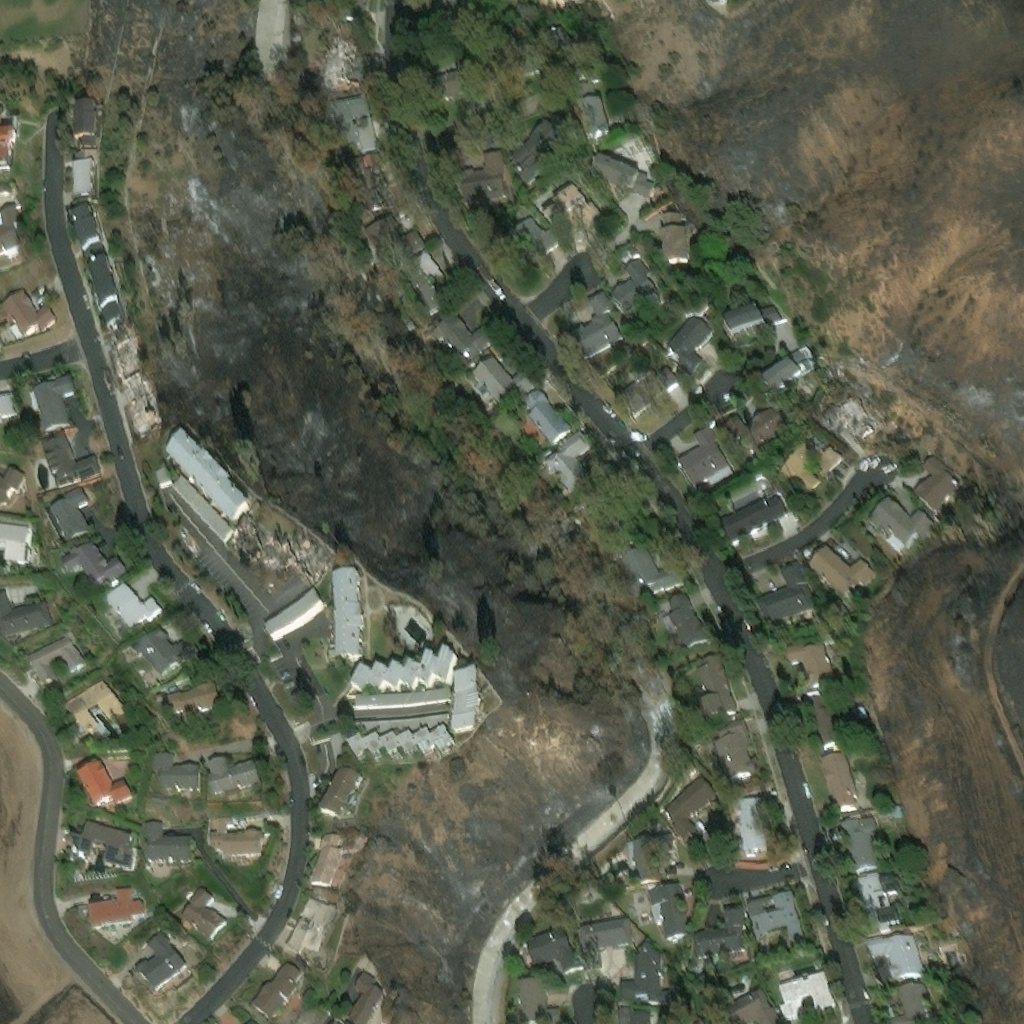0 no-damage: (165, 428, 249, 518), (346, 645, 458, 684), (746, 887, 807, 958), (714, 486, 787, 544), (660, 769, 717, 843), (541, 425, 598, 499), (753, 554, 815, 622), (280, 892, 340, 962), (836, 863, 900, 928), (345, 726, 459, 762), (506, 119, 567, 185), (332, 87, 388, 158), (674, 421, 734, 487), (774, 956, 836, 1019), (61, 673, 126, 733), (169, 469, 229, 534), (863, 493, 932, 548), (247, 951, 303, 1018), (131, 923, 185, 992), (306, 831, 366, 893), (68, 814, 136, 868), (706, 716, 760, 782), (24, 629, 86, 686), (724, 404, 790, 457), (619, 938, 671, 1004), (72, 751, 132, 808), (130, 621, 192, 676), (60, 536, 126, 587), (39, 428, 99, 484), (571, 287, 621, 354), (806, 541, 870, 593), (466, 353, 525, 409), (520, 385, 571, 449), (366, 215, 425, 269), (862, 926, 921, 979), (519, 921, 581, 971), (760, 339, 819, 391), (76, 882, 145, 926), (831, 803, 877, 869), (663, 308, 711, 371), (103, 578, 161, 630), (165, 676, 226, 725), (435, 312, 496, 361), (257, 581, 319, 629), (621, 546, 676, 600), (659, 589, 708, 649), (910, 445, 958, 506), (688, 655, 735, 717), (692, 903, 745, 957), (578, 916, 633, 968), (26, 370, 73, 430), (207, 809, 262, 860), (314, 764, 365, 819), (608, 253, 656, 311), (396, 257, 444, 315), (0, 286, 55, 336), (624, 360, 679, 410), (880, 975, 937, 1023), (351, 684, 448, 712), (503, 213, 556, 264), (177, 878, 224, 935), (646, 880, 690, 940), (816, 743, 856, 807), (591, 150, 653, 191), (535, 23, 589, 70), (542, 182, 593, 231), (45, 480, 88, 537), (0, 589, 49, 638), (463, 147, 508, 200), (330, 566, 358, 648), (354, 153, 394, 210), (343, 970, 386, 1023), (721, 296, 778, 335), (0, 510, 37, 570), (92, 268, 129, 328), (624, 834, 670, 882), (0, 213, 36, 272), (150, 749, 198, 793), (803, 680, 835, 745), (724, 986, 780, 1023), (141, 815, 191, 856), (77, 217, 113, 273), (517, 975, 558, 1023), (451, 670, 480, 736), (207, 752, 258, 787), (657, 206, 689, 261), (352, 713, 449, 730), (738, 792, 765, 852), (425, 237, 463, 277), (576, 93, 609, 136), (78, 113, 102, 163), (78, 163, 102, 211), (515, 76, 546, 110), (414, 250, 443, 283), (443, 66, 469, 100), (0, 140, 20, 183), (0, 461, 20, 502), (617, 1004, 649, 1023), (0, 388, 19, 418), (430, 57, 456, 73), (235, 1010, 262, 1023), (431, 0, 458, 11), (322, 1012, 341, 1023), (0, 372, 13, 386), (690, 1014, 705, 1023), (0, 125, 6, 138)
3 destroyed: (228, 511, 328, 576), (320, 26, 367, 88), (815, 389, 875, 435), (127, 379, 160, 436), (110, 340, 148, 384), (882, 418, 905, 440), (108, 326, 131, 346), (309, 50, 326, 77)
